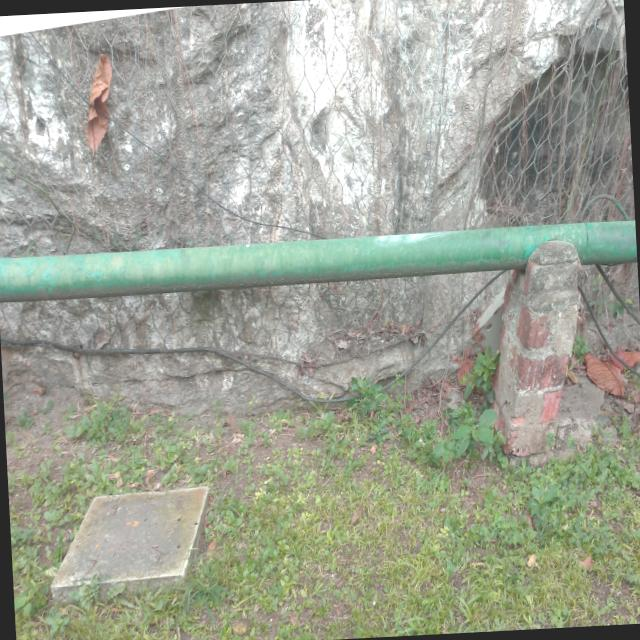gas: (0, 218, 638, 301)
